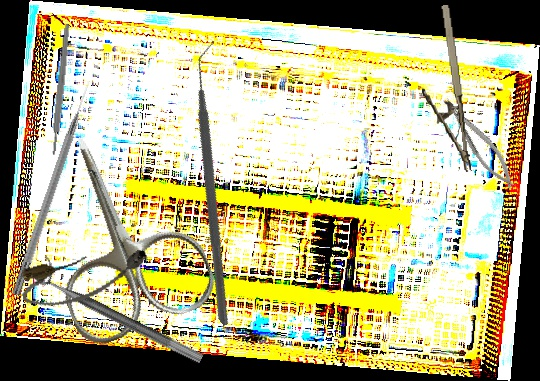Cannula: (16, 240, 154, 315)
Chopper: (82, 40, 355, 327)
Fixation Ring: (30, 254, 212, 366)
Hook Surgical: (10, 79, 96, 297)
Iris Scissors: (12, 110, 223, 352)
Needle Holder: (413, 4, 472, 176), (438, 90, 521, 195)
Scalpel Handle: (50, 23, 71, 156)
